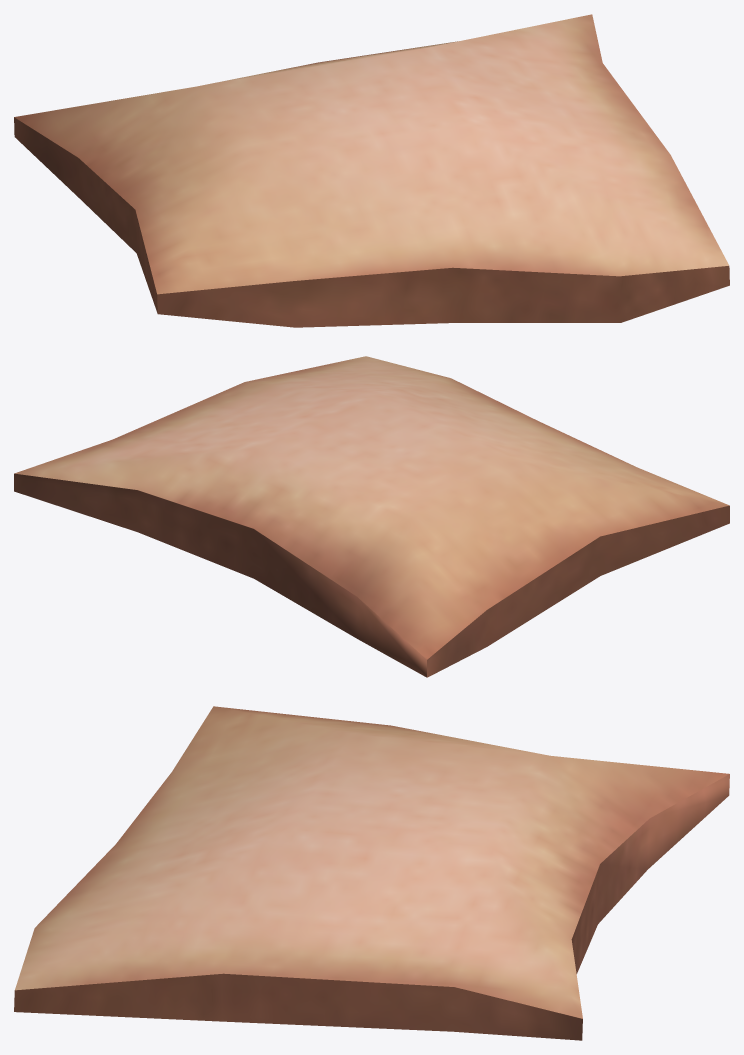
File: G_DanShenHan_baozhen_01.FBX
3 views of the same model, one above another, from view 1: azimuth 30°, elevation 25°; view 2: azimuth 150°, elevation 25°; view 3: azimuth 270°, elevation 25° (orthographic). The views are drawn at different scales.
Parts seen in each view (by area): view 1: DanShenHan_baozhen_01; view 2: DanShenHan_baozhen_01; view 3: DanShenHan_baozhen_01.
Boxes of the visible parts, bbox=[...] form: DanShenHan_baozhen_01: bbox=[14, 14, 729, 327]; DanShenHan_baozhen_01: bbox=[14, 356, 729, 677]; DanShenHan_baozhen_01: bbox=[14, 706, 729, 1040].
Bounding box in the file's own units: 58.89 × 12.71 × 55.01.
